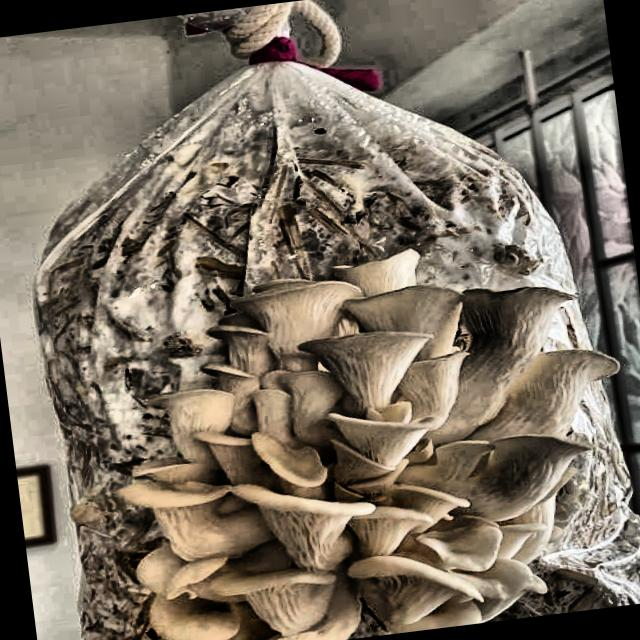Healthy: (41, 241, 640, 640)
